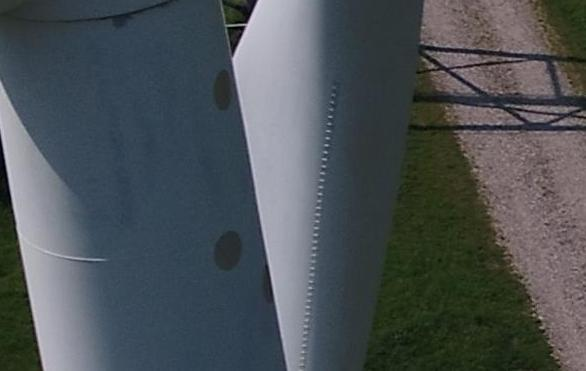damage: (113, 13, 133, 29)
